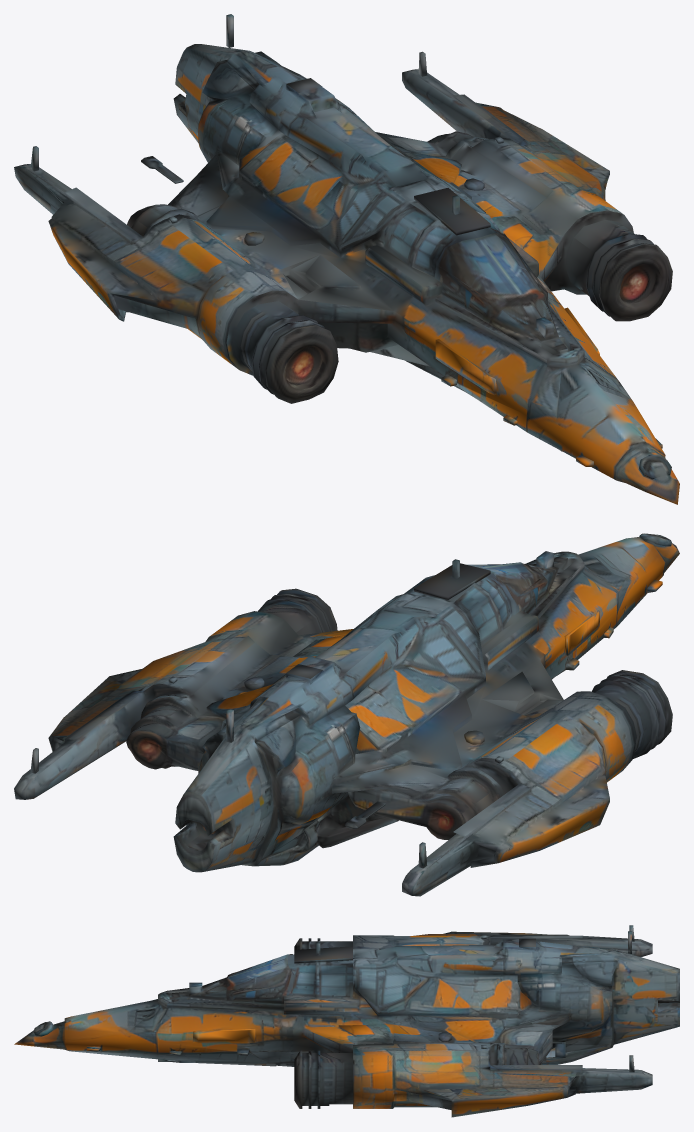
Rendered from space_shuttle__realistic_pbr_model.glb.
3 renders of one model, top to bottom at view 1: azimuth 30°, elevation 25°; view 2: azimuth 150°, elevation 25°; view 3: azimuth 270°, elevation 25°, orthographic. The views are drawn at different scales.
Visible parts, largest first — view 1: texture_pbr_v128.001; view 2: texture_pbr_v128.001; view 3: texture_pbr_v128.001.
Part boxes in pixels (box(x1,y1,x2,y2)): texture_pbr_v128.001: box(14, 14, 679, 504); texture_pbr_v128.001: box(14, 533, 679, 896); texture_pbr_v128.001: box(14, 925, 679, 1117).
Size of the model in its own units: 0.6934 by 0.2572 by 1.16.
1 material, 1 textured.
